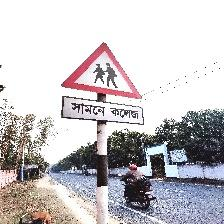College-in-front: (54, 37, 164, 151)
